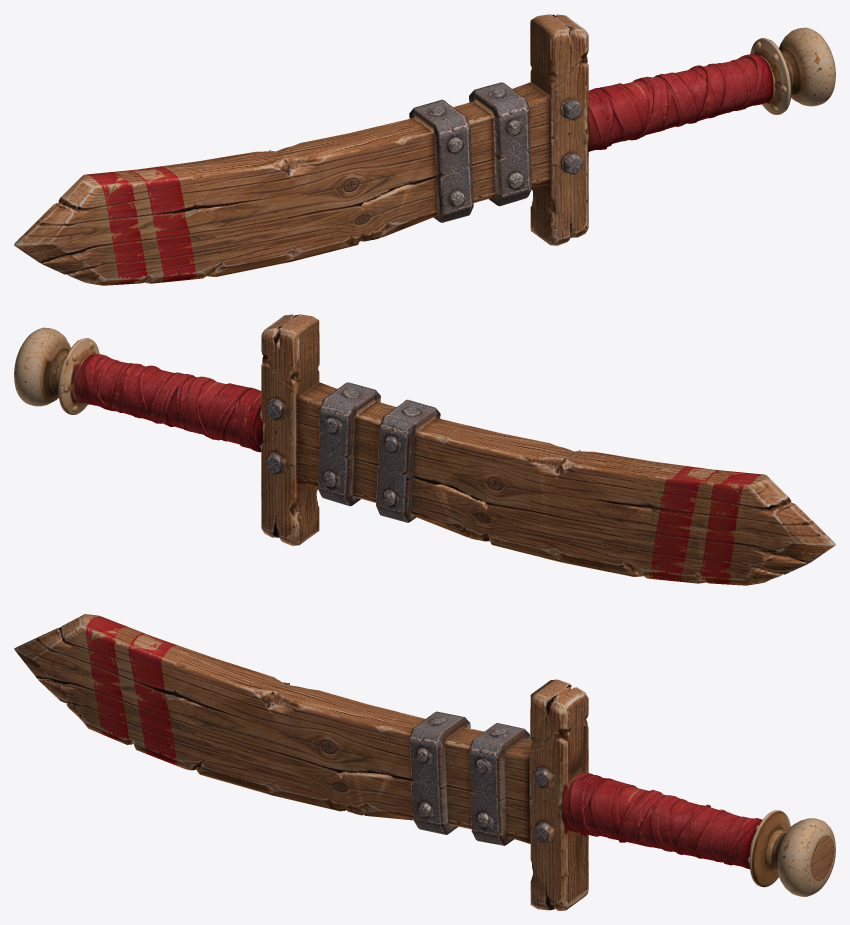
The model's file is sir_bonk_plank.fbx.
The picture shows the model from 3 angles, top to bottom: view 1: azimuth 30°, elevation 25°; view 2: azimuth 150°, elevation 25°; view 3: azimuth 330°, elevation 25°; orthographic projection.
Parts seen in each view (by area): view 1: tripo_node_aea08d73; view 2: tripo_node_aea08d73; view 3: tripo_node_aea08d73.
Boxes of the visible parts, bbox=[...] form: tripo_node_aea08d73: bbox=[14, 14, 835, 285]; tripo_node_aea08d73: bbox=[14, 314, 835, 585]; tripo_node_aea08d73: bbox=[14, 614, 835, 910].
Size of the model in its own units: 99.95 by 8.54 by 25.44.
1 material, 1 textured.
